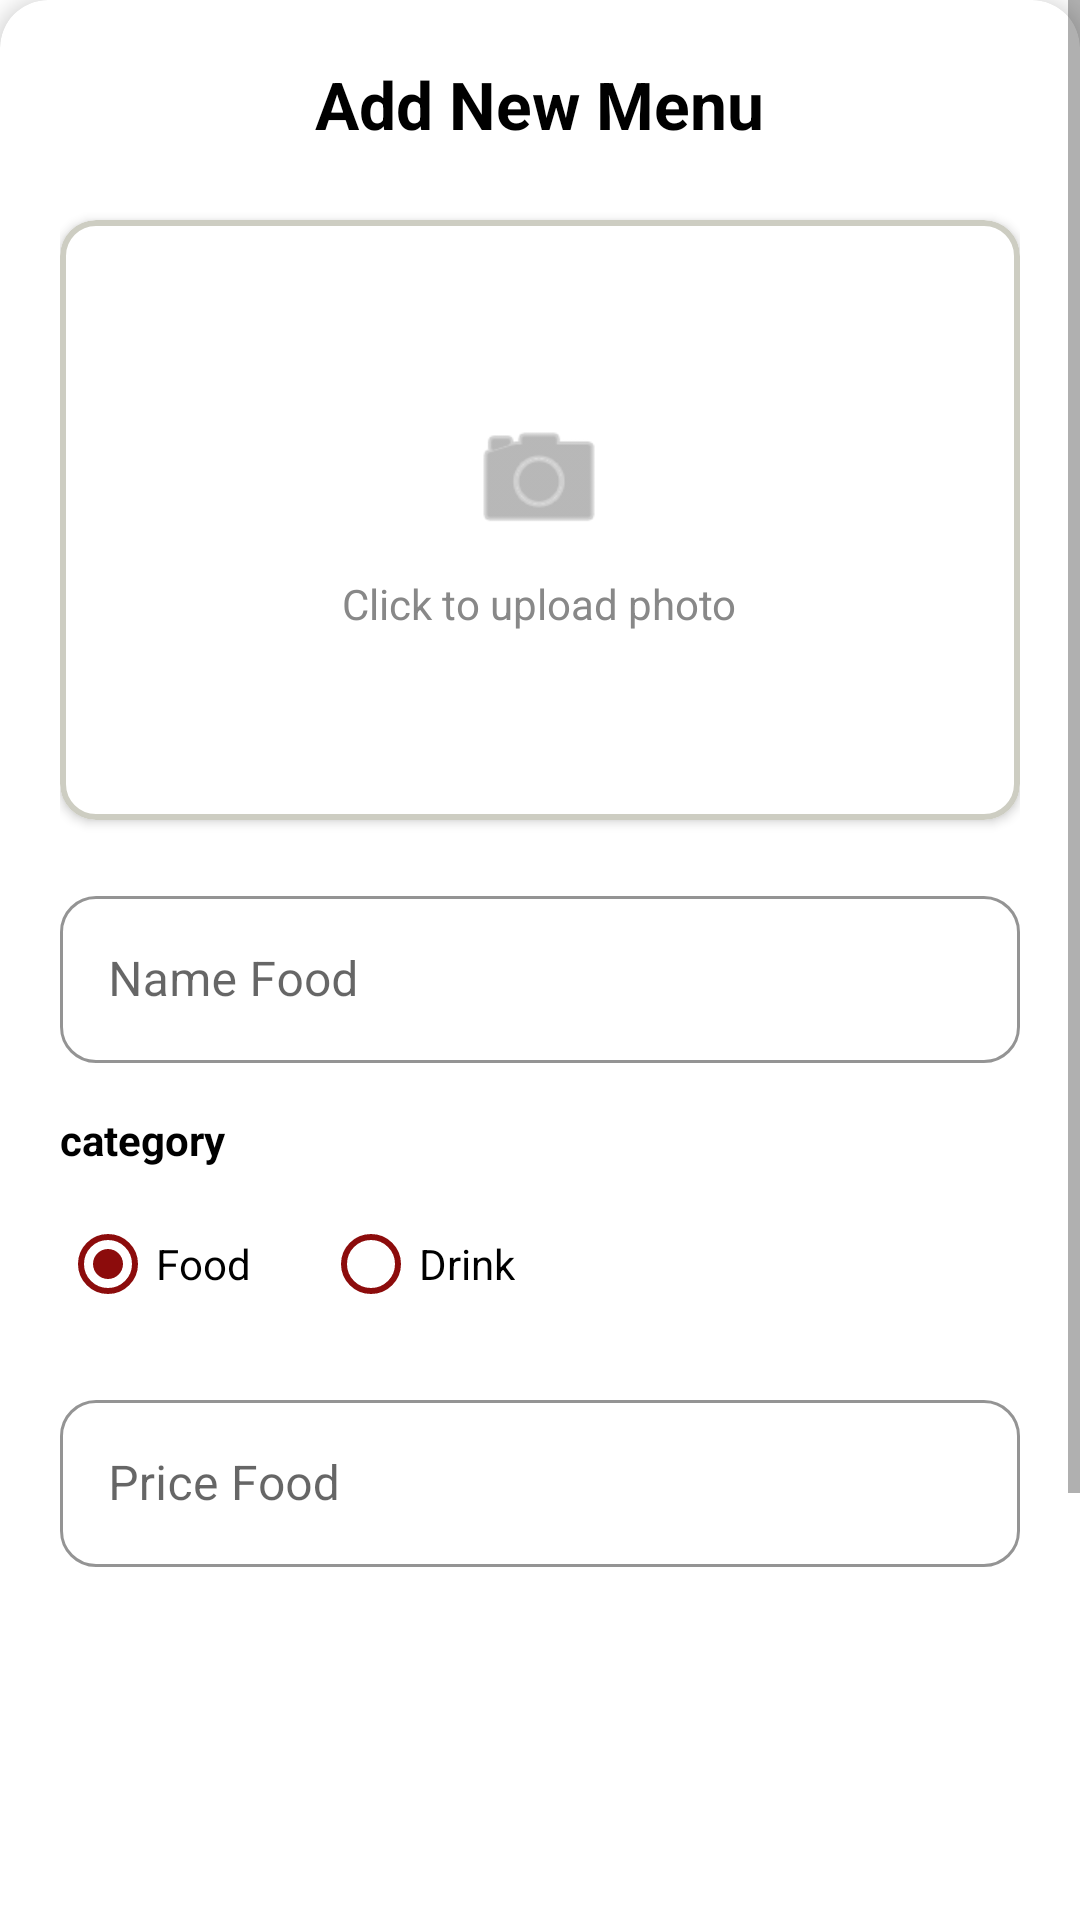

Screen size 1080 × 1920. Icon name, then its box in pixels as (x1, y1, x2, y2):
camera: (484, 433, 594, 521)
